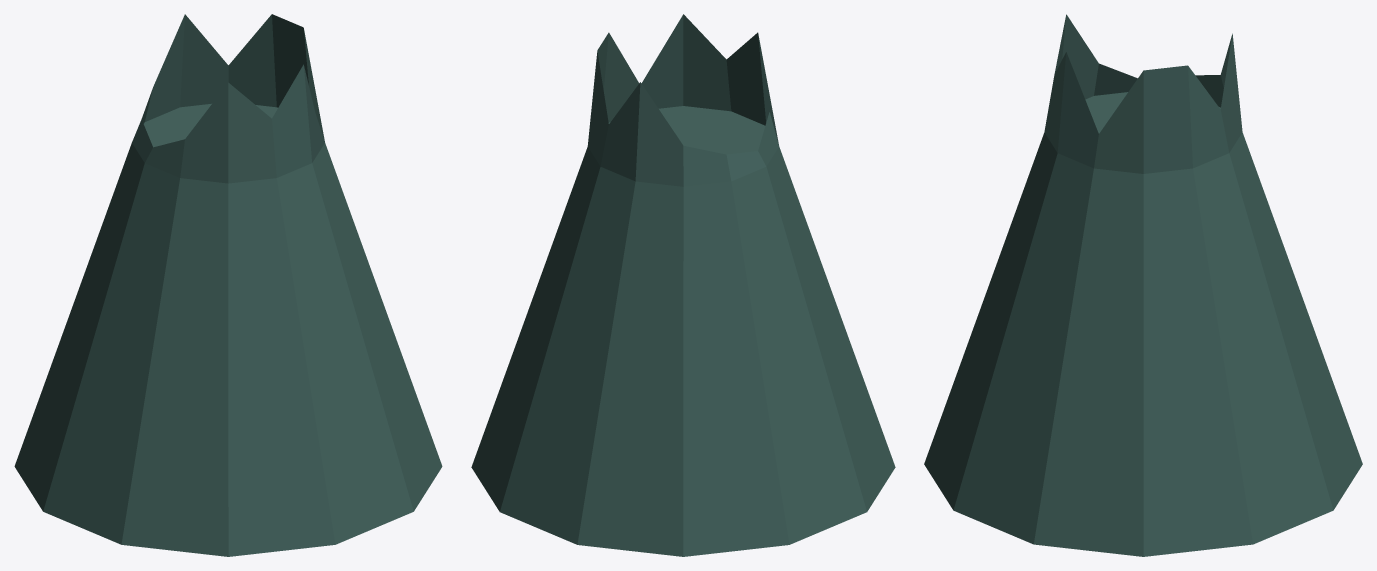
File: Broken Flask (by it self).fbx
The picture shows the model from 3 angles, left to right: view 1: azimuth 30°, elevation 25°; view 2: azimuth 150°, elevation 25°; view 3: azimuth 270°, elevation 25°; orthographic projection. The views are drawn at different scales.
Visible parts, largest first — view 1: polySurface3; view 2: polySurface3; view 3: polySurface3.
Part boxes in pixels (box(x1,y1,x2,y2)): polySurface3: box(14, 14, 442, 556); polySurface3: box(471, 14, 895, 556); polySurface3: box(924, 14, 1362, 556).
Bounding box in the file's own units: 0.2519 × 0.2732 × 0.2519.
